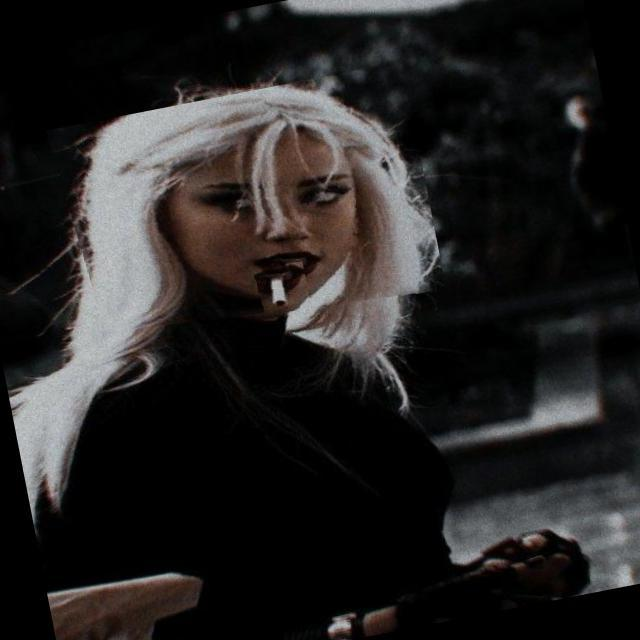cigarette: (254, 261, 312, 317)
